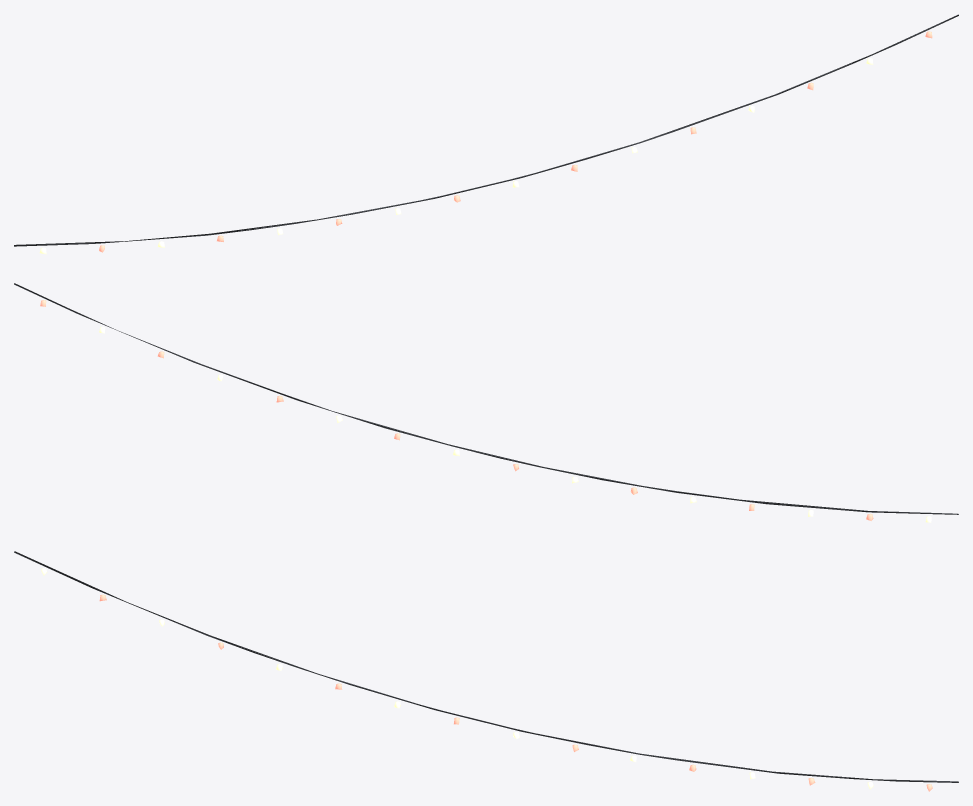
Rendered from prop_string_lights_span_lod1.glb.
3 renders of one model, top to bottom at view 1: azimuth 30°, elevation 25°; view 2: azimuth 150°, elevation 25°; view 3: azimuth 330°, elevation 25°, orthographic.
Parts seen in each view (by area): view 1: string_lights_wire_lod1, string_lights_bulbs_lod1; view 2: string_lights_wire_lod1, string_lights_bulbs_lod1; view 3: string_lights_wire_lod1, string_lights_bulbs_lod1.
Part boxes in pixels (<box>): string_lights_wire_lod1: <box>14,14,958,246</box>; string_lights_bulbs_lod1: <box>39,31,932,254</box>; string_lights_wire_lod1: <box>14,283,958,514</box>; string_lights_bulbs_lod1: <box>40,300,931,522</box>; string_lights_wire_lod1: <box>14,551,958,782</box>; string_lights_bulbs_lod1: <box>41,568,932,791</box>.
Size of the model in its own units: 16.01 by 1.04 by 0.1136.
